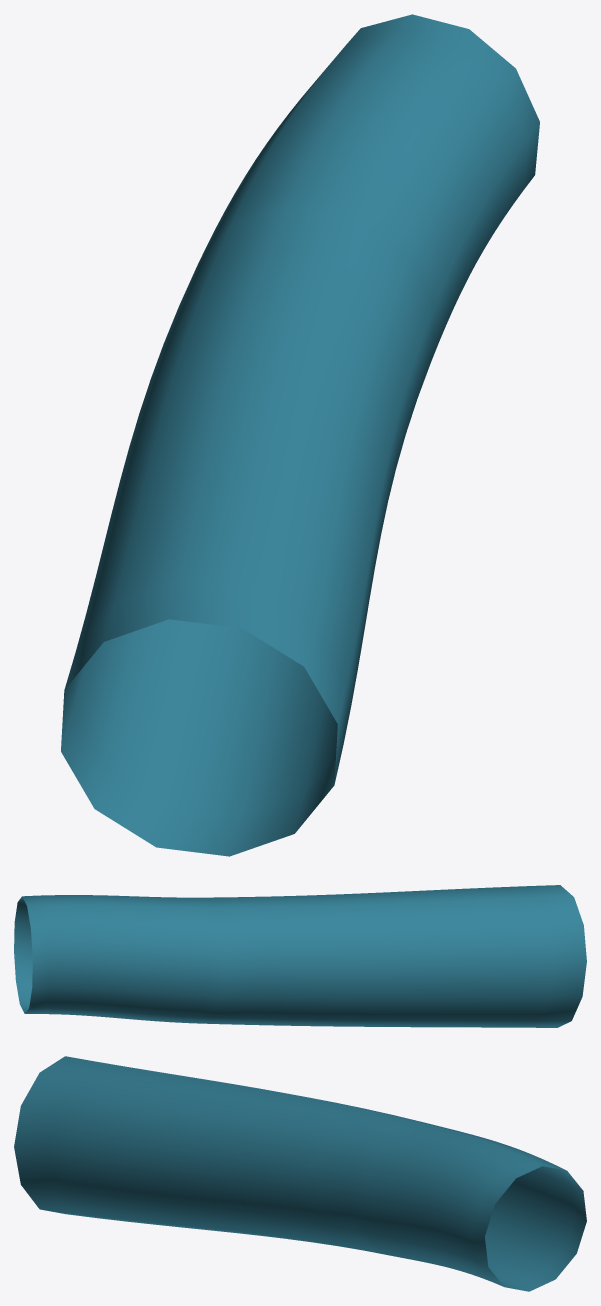
The picture shows the model from 3 angles, top to bottom: view 1: azimuth 30°, elevation 25°; view 2: azimuth 150°, elevation 25°; view 3: azimuth 270°, elevation 25°; orthographic projection. The views are drawn at different scales.
Parts seen in each view (by area): view 1: 左主支气管; view 2: 左主支气管; view 3: 左主支气管.
Boxes of the visible parts, x1,y1,x2,y2 form: 左主支气管: [61, 14, 539, 856]; 左主支气管: [14, 885, 586, 1027]; 左主支气管: [14, 1056, 586, 1291].
Bounding box in the file's own units: 0.0817 × 0.0369 × 0.0892.
